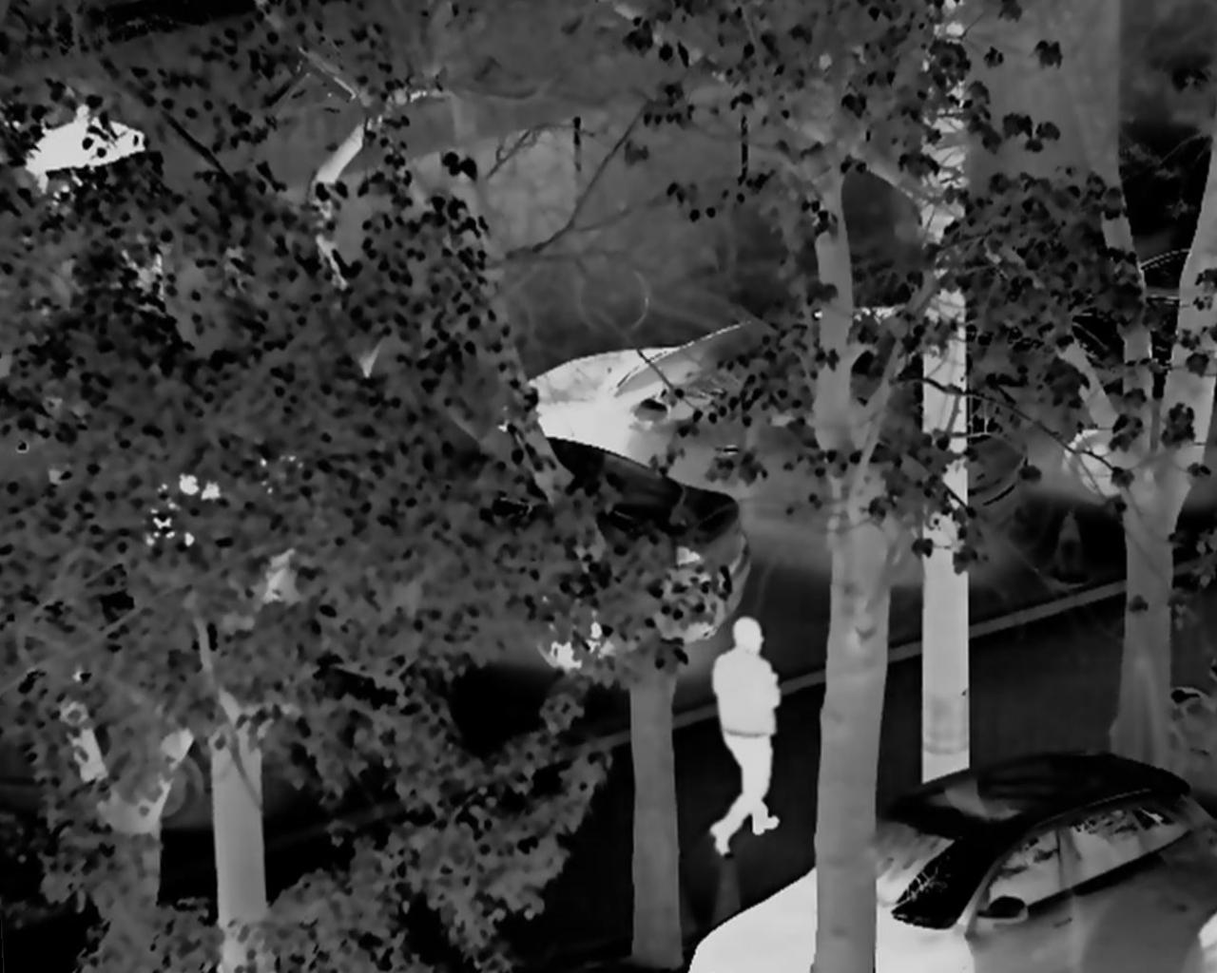person: (707, 614, 782, 861)
